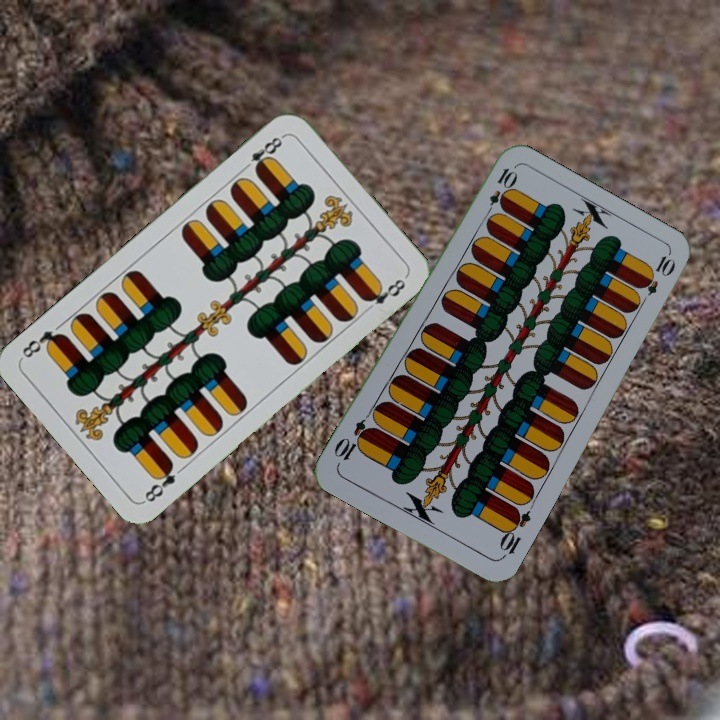E10: (495, 503, 534, 561), (481, 164, 518, 220)
E8: (238, 131, 287, 176), (140, 458, 179, 506)
